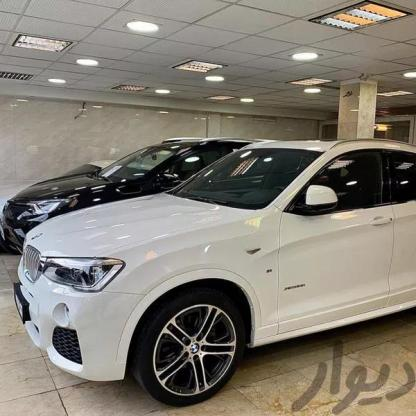Car: (12, 125, 416, 416), (0, 132, 242, 252)
